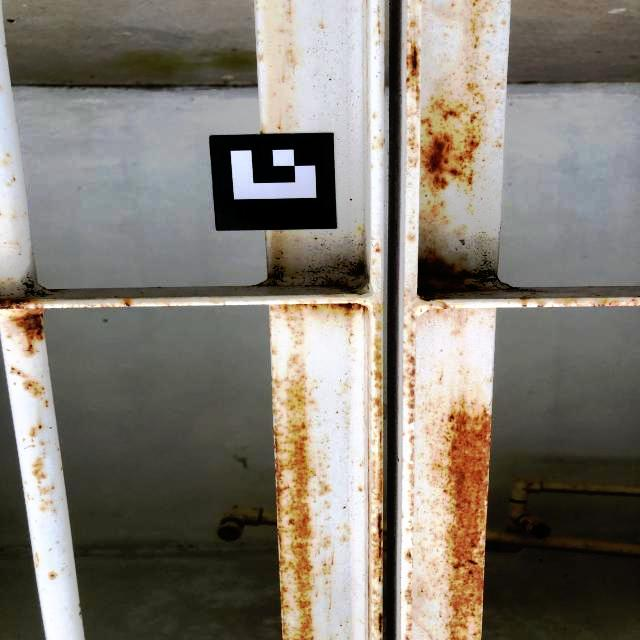Corrosion: (271, 350, 336, 640), (404, 0, 490, 202), (426, 401, 490, 640), (402, 292, 451, 530), (363, 303, 384, 640), (267, 304, 366, 337), (420, 251, 484, 294), (0, 297, 44, 356), (517, 296, 640, 309), (6, 365, 47, 399), (403, 545, 412, 640), (32, 456, 56, 488), (324, 281, 354, 288), (29, 426, 42, 440), (286, 49, 295, 65), (42, 501, 53, 511), (327, 590, 332, 610), (357, 262, 365, 274), (121, 300, 137, 306), (286, 0, 291, 17), (44, 402, 53, 411), (408, 234, 418, 241), (377, 20, 381, 35), (348, 333, 354, 343), (97, 306, 122, 308), (375, 246, 382, 253), (295, 339, 302, 345), (47, 574, 54, 580), (258, 55, 264, 61), (324, 580, 331, 585), (271, 348, 276, 355), (260, 129, 265, 135), (341, 538, 347, 543), (319, 24, 324, 29), (359, 488, 363, 493), (52, 508, 56, 512), (315, 592, 318, 597), (278, 126, 281, 130)
